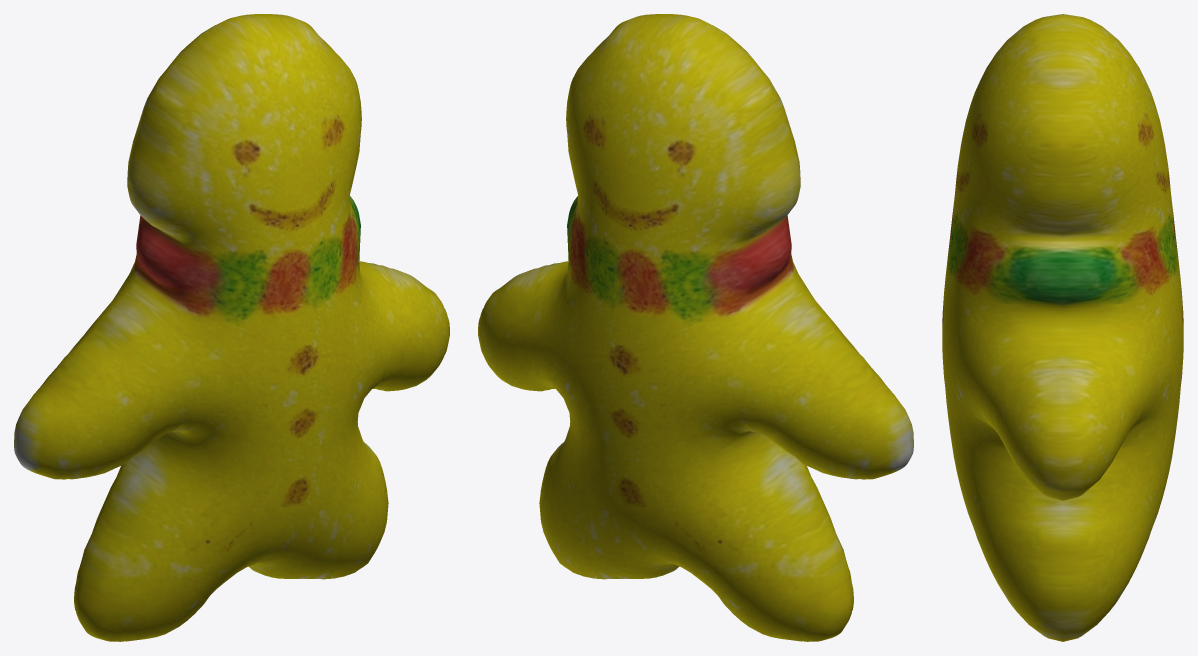
Rendered from cookie.glb.
The picture shows the model from 3 angles, left to right: view 1: azimuth 30°, elevation 25°; view 2: azimuth 150°, elevation 25°; view 3: azimuth 270°, elevation 25°; orthographic projection.
Size of the model in its own units: 3.44 by 4.53 by 1.69.
1 material, 1 textured.
